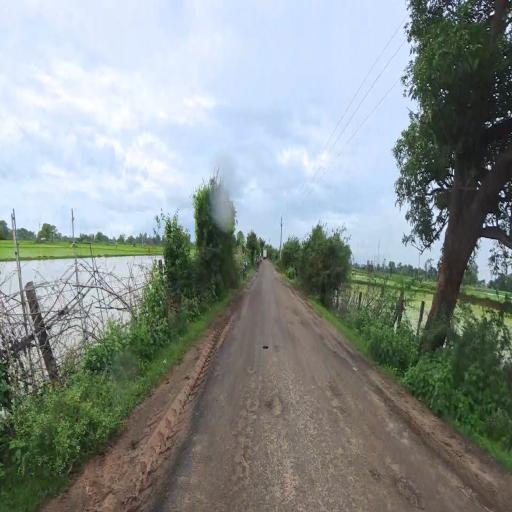ravelling: (214, 359, 359, 512)
